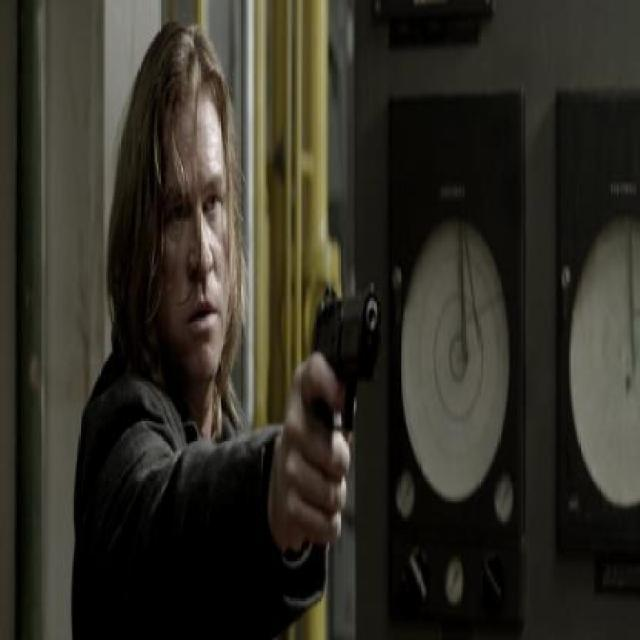gun: (302, 260, 392, 420)
